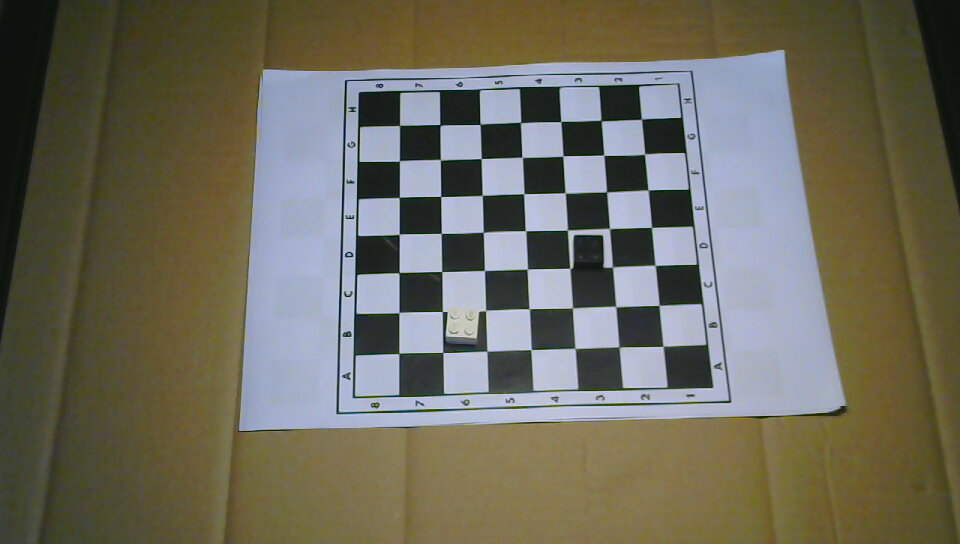bp: (572, 233, 604, 270)
wp: (444, 307, 481, 345)
